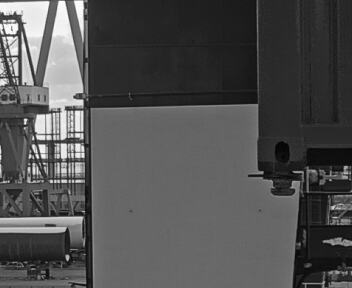twist_lock_1: (148, 152, 207, 192)
